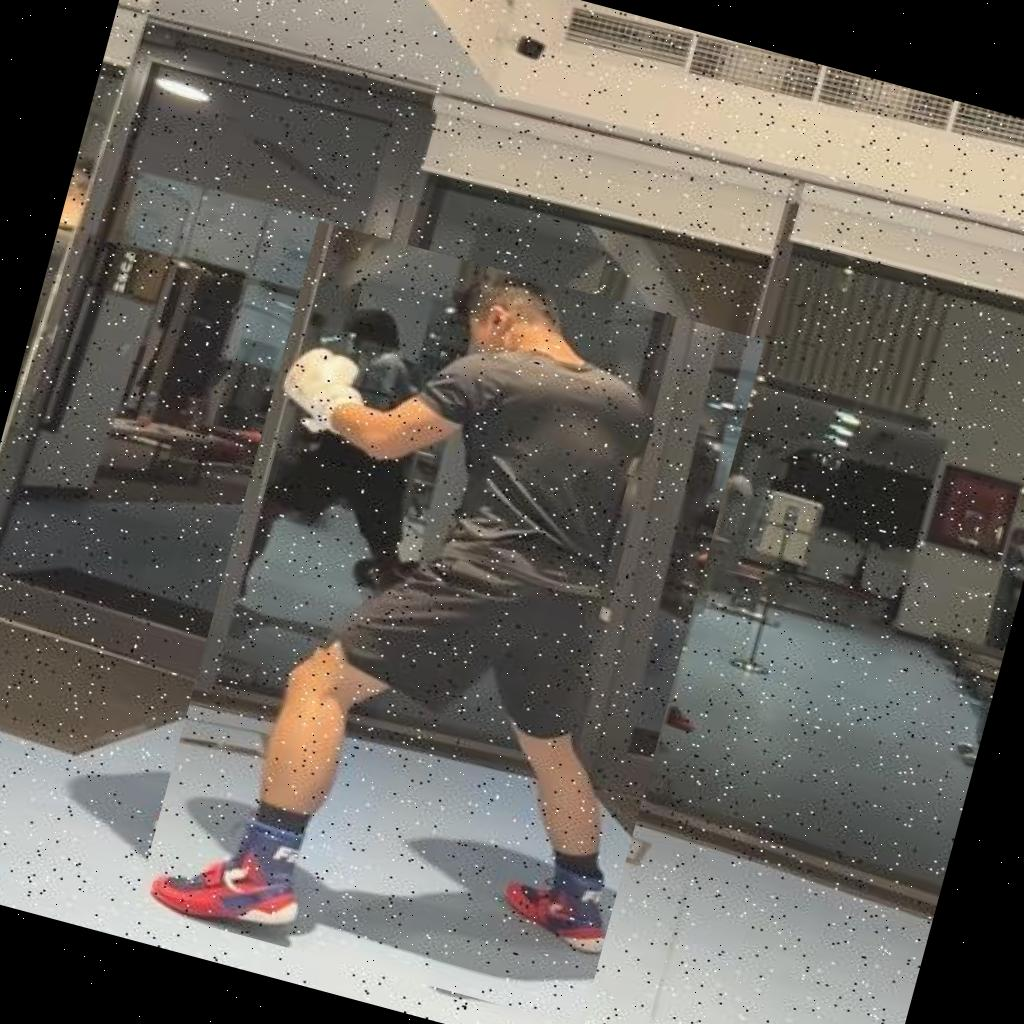hook: (135, 221, 765, 1024)
